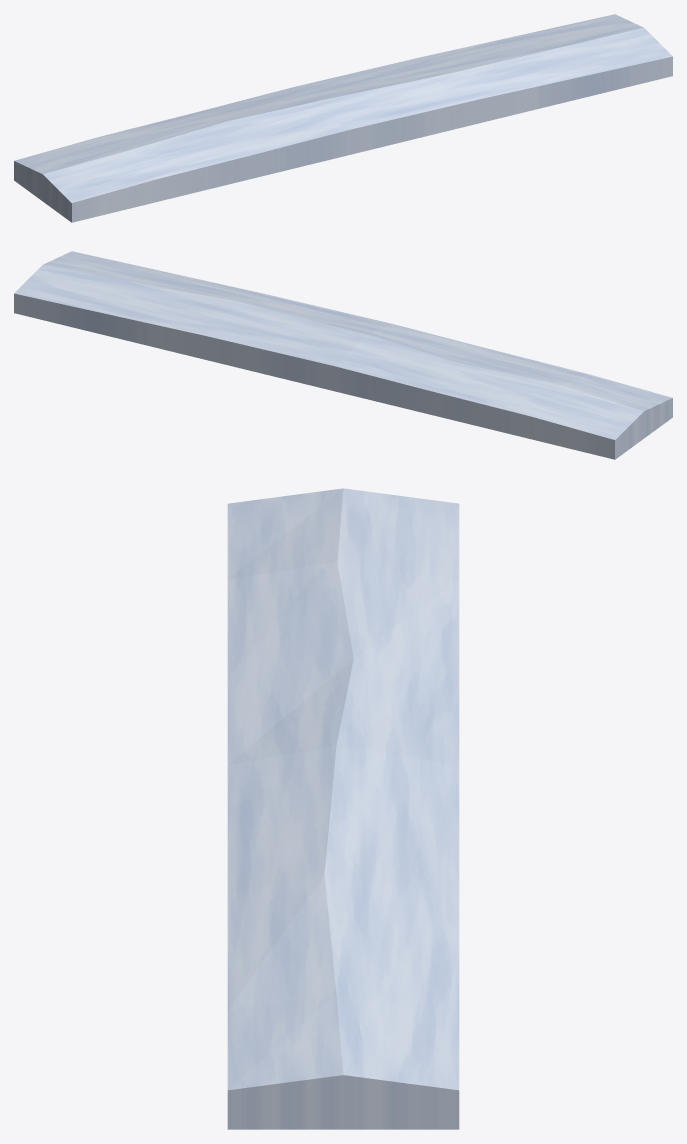
The model's file is snow_porch_edge.glb.
The picture shows the model from 3 angles, top to bottom: view 1: azimuth 30°, elevation 25°; view 2: azimuth 150°, elevation 25°; view 3: azimuth 270°, elevation 25°; orthographic projection. The views are drawn at different scales.
Parts seen in each view (by area): view 1: winter_snow_porch_edge; view 2: winter_snow_porch_edge; view 3: winter_snow_porch_edge.
Boxes of the visible parts, x1,y1,x2,y2 form: winter_snow_porch_edge: (14, 14, 672, 222); winter_snow_porch_edge: (14, 251, 672, 459); winter_snow_porch_edge: (227, 488, 459, 1129).
Bounding box in the file's own units: 1.8 × 0.1 × 0.3.
Materials: 1 (1 with a texture image).
